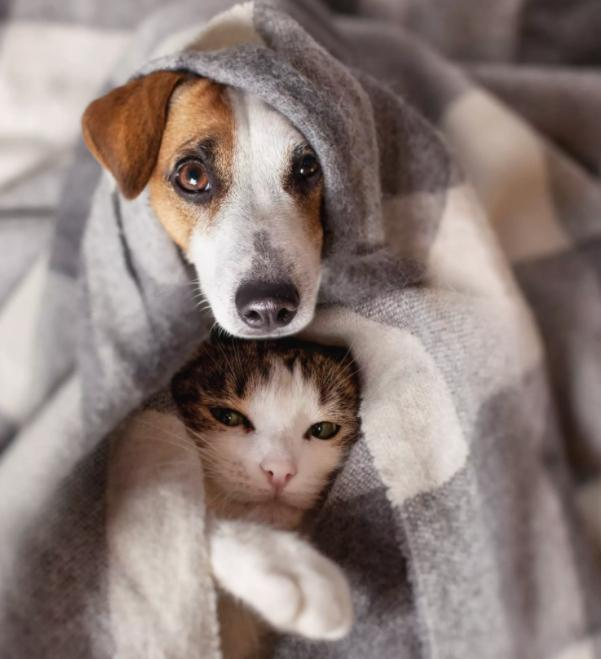cats: (125, 340, 416, 650)
dogs: (65, 29, 441, 348)
